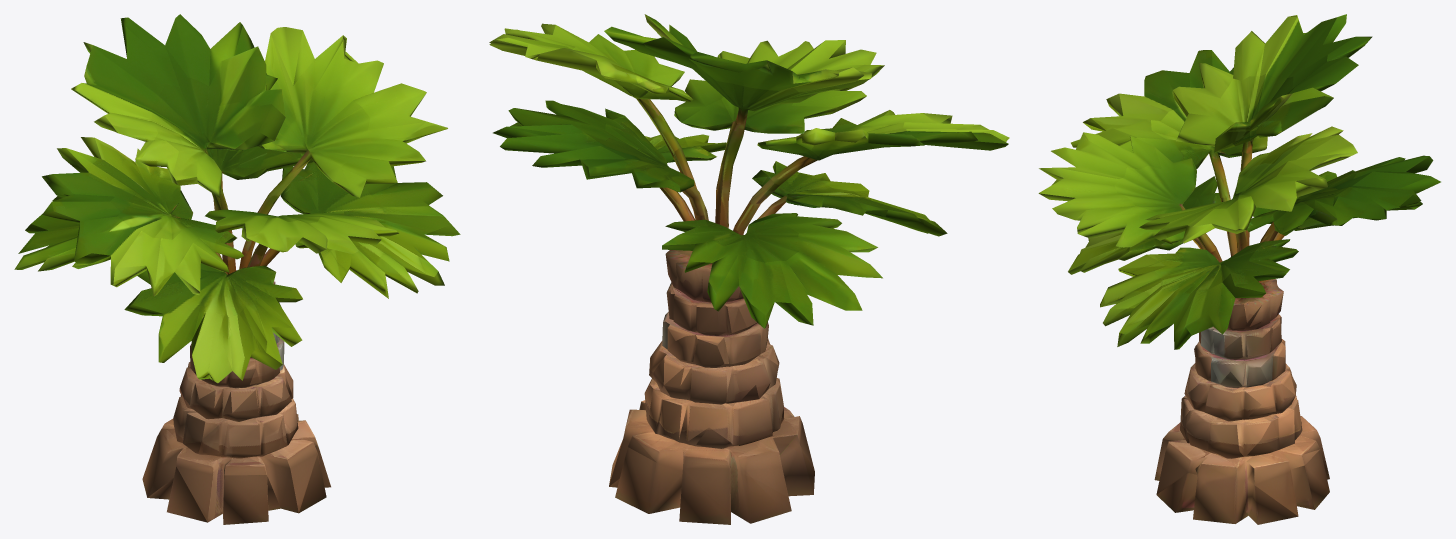
3 views of the same model, side by side, from view 1: azimuth 30°, elevation 25°; view 2: azimuth 150°, elevation 25°; view 3: azimuth 270°, elevation 25° (orthographic). The views are drawn at different scales.
Bounding box in the file's own units: 0.9941 × 1 × 0.8574.
Materials: 1 (1 with a texture image).
